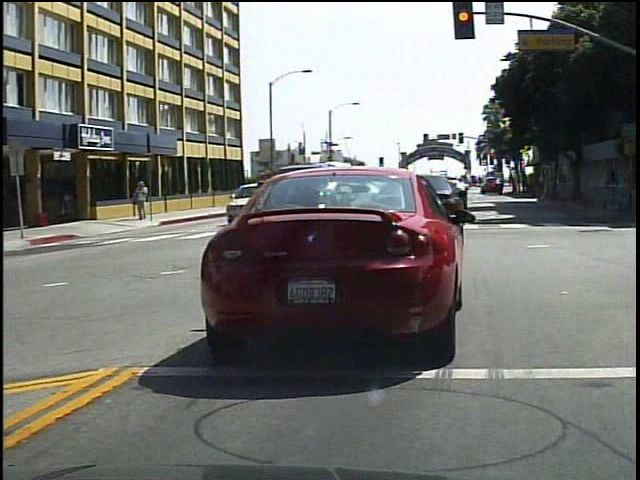person: (133, 176, 155, 224)
